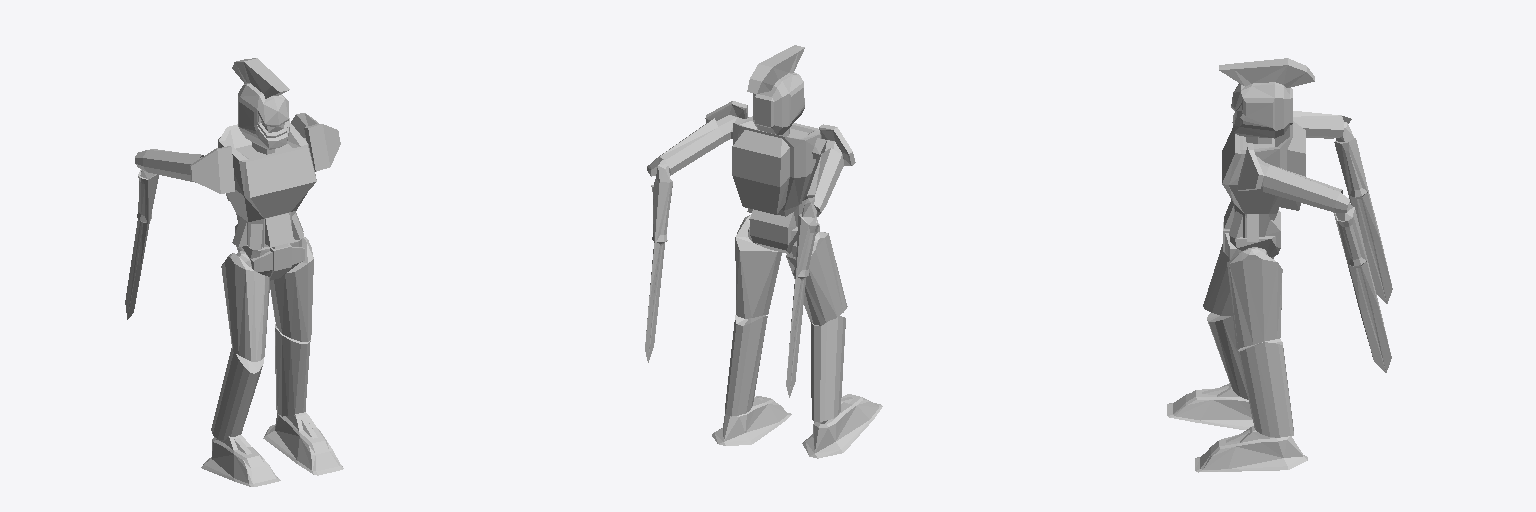
The model's file is robots_000002.obj.
The picture shows the model from 3 angles: view 1: azimuth 30°, elevation 25°; view 2: azimuth 150°, elevation 25°; view 3: azimuth 270°, elevation 25°; orthographic projection.
Visible parts, largest first — view 1: Chest_plate_Cube.004, Head_gladiator_Cube.024, R_Thigh_Cube.005, R_Forearm.001_Cube.028, R_Thigh.002_Cube.027, R_Foot.002_Cube.035, R_Shin_Cube.007, R_Shin.002_Cube.029, R_Foot_Cube, Pelvis_Cube.006, R_Arm.002_Cube.032, R_Arm.003_Cube.034; view 2: Chest_plate_Cube.004, R_Forearm.002_Cube.033, R_Forearm.001_Cube.028, Head_gladiator_Cube.024, R_Shin_Cube.007, R_Thigh.002_Cube.027, R_Shin.002_Cube.029, R_Thigh_Cube.005, R_Foot_Cube, R_Foot.002_Cube.035, Pelvis_Cube.006, R_Arm.002_Cube.032 (+1 smaller); view 3: R_Forearm.002_Cube.033, Chest_plate_Cube.004, Head_gladiator_Cube.024, R_Thigh.002_Cube.027, R_Forearm.001_Cube.028, R_Shin.002_Cube.029, R_Foot.002_Cube.035, R_Foot_Cube, R_Shin_Cube.007, R_Thigh_Cube.005, Pelvis_Cube.006, R_Arm.003_Cube.034.
Part boxes in pixels (x1,y1,x2,y2): Chest_plate_Cube.004: (218,123,316,249); Head_gladiator_Cube.024: (232,58,289,149); R_Thigh_Cube.005: (221,253,269,361); R_Forearm.001_Cube.028: (125,149,203,319); R_Thigh.002_Cube.027: (270,237,313,341); R_Foot.002_Cube.035: (263,412,343,475); R_Shin_Cube.007: (211,348,263,440); R_Shin.002_Cube.029: (275,324,310,416); R_Foot_Cube: (201,435,280,486); Pelvis_Cube.006: (235,224,304,280); R_Arm.002_Cube.032: (190,146,234,193); R_Arm.003_Cube.034: (304,124,340,171); Chest_plate_Cube.004: (732,116,820,226); R_Forearm.002_Cube.033: (645,118,723,362); R_Forearm.001_Cube.028: (786,148,843,397); Head_gladiator_Cube.024: (747,45,804,134); R_Shin_Cube.007: (811,316,845,421); R_Thigh.002_Cube.027: (735,215,781,318); R_Shin.002_Cube.029: (725,315,767,416); R_Thigh_Cube.005: (786,232,847,325); R_Foot_Cube: (802,394,882,458); R_Foot.002_Cube.035: (712,396,791,445); Pelvis_Cube.006: (749,209,819,253); R_Arm.002_Cube.032: (812,124,855,165); R_Forearm.002_Cube.033: (1263,165,1391,372); Chest_plate_Cube.004: (1222,121,1305,241); Head_gladiator_Cube.024: (1219,58,1314,138); R_Thigh.002_Cube.027: (1227,249,1282,348); R_Forearm.001_Cube.028: (1293,111,1392,303); R_Shin.002_Cube.029: (1238,339,1293,437); R_Foot.002_Cube.035: (1195,426,1307,472); R_Foot_Cube: (1167,383,1253,429); R_Shin_Cube.007: (1207,313,1247,399); R_Thigh_Cube.005: (1203,244,1274,315); Pelvis_Cube.006: (1223,210,1280,259); R_Arm.003_Cube.034: (1237,143,1269,190).
Bounding box in the file's own units: 1.51 × 3.21 × 1.69.